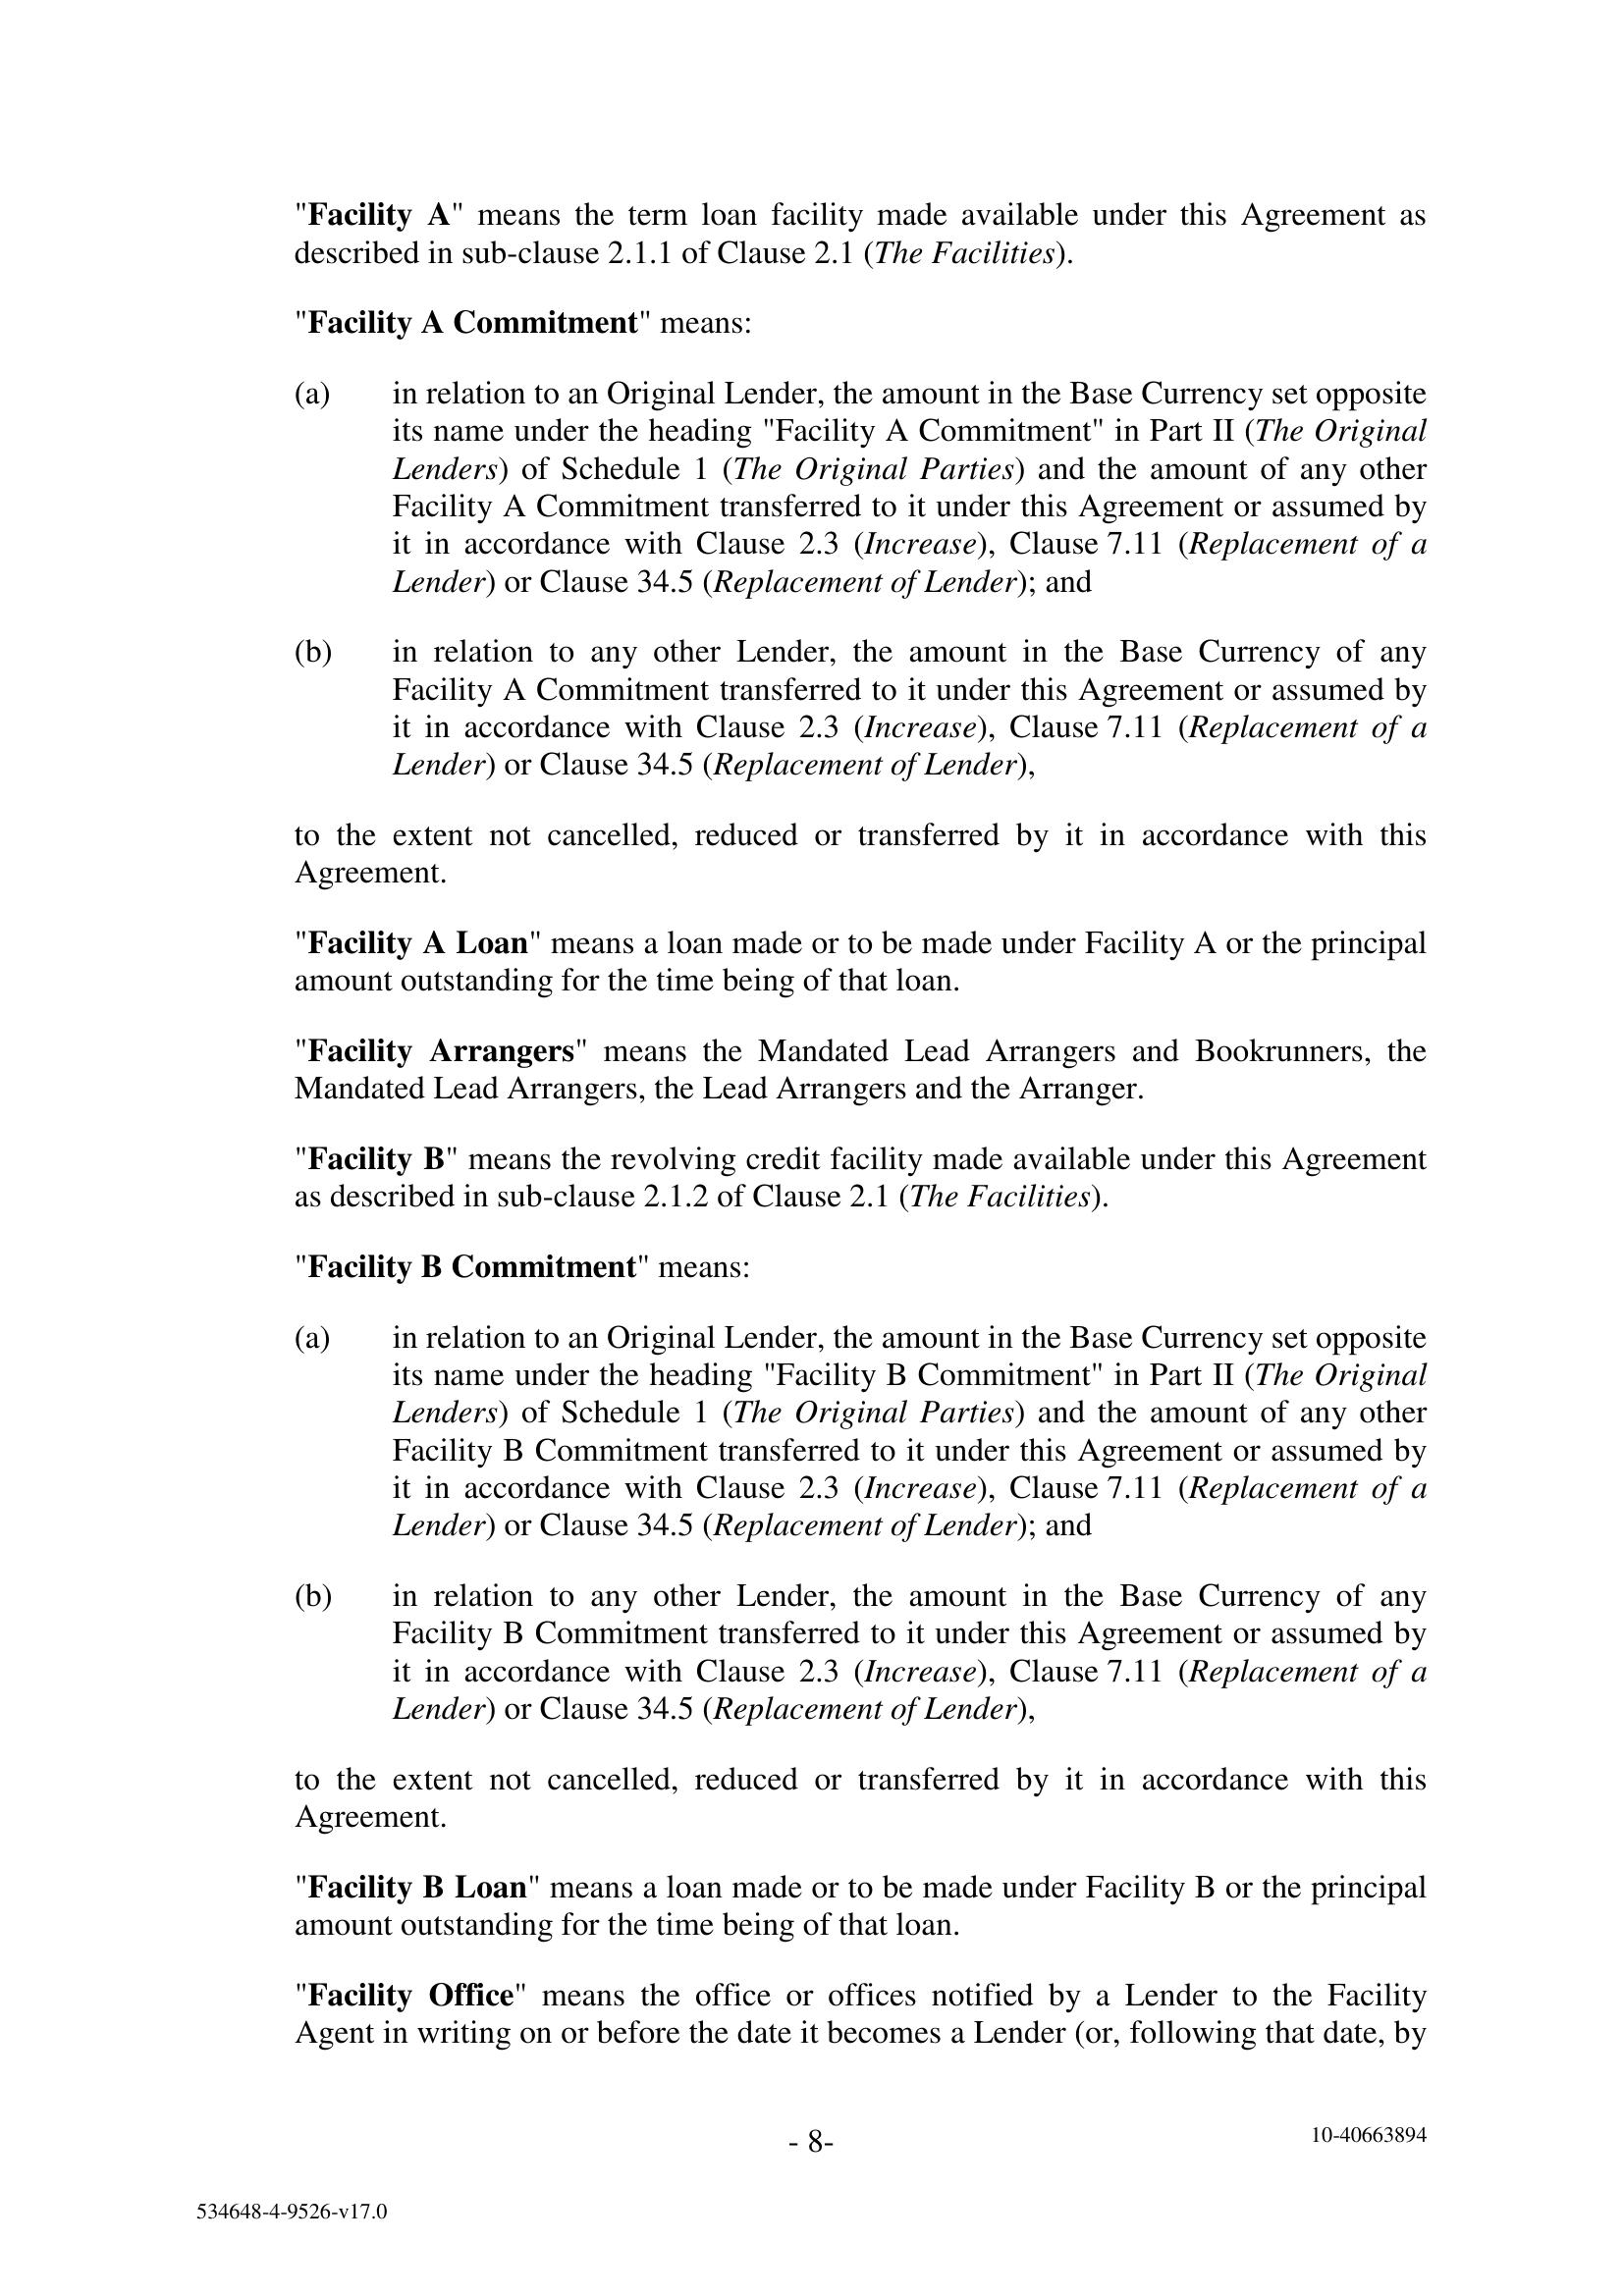pageno: (734, 2082, 903, 2210)
tag: (114, 2175, 469, 2256), (1221, 2099, 1516, 2191)
